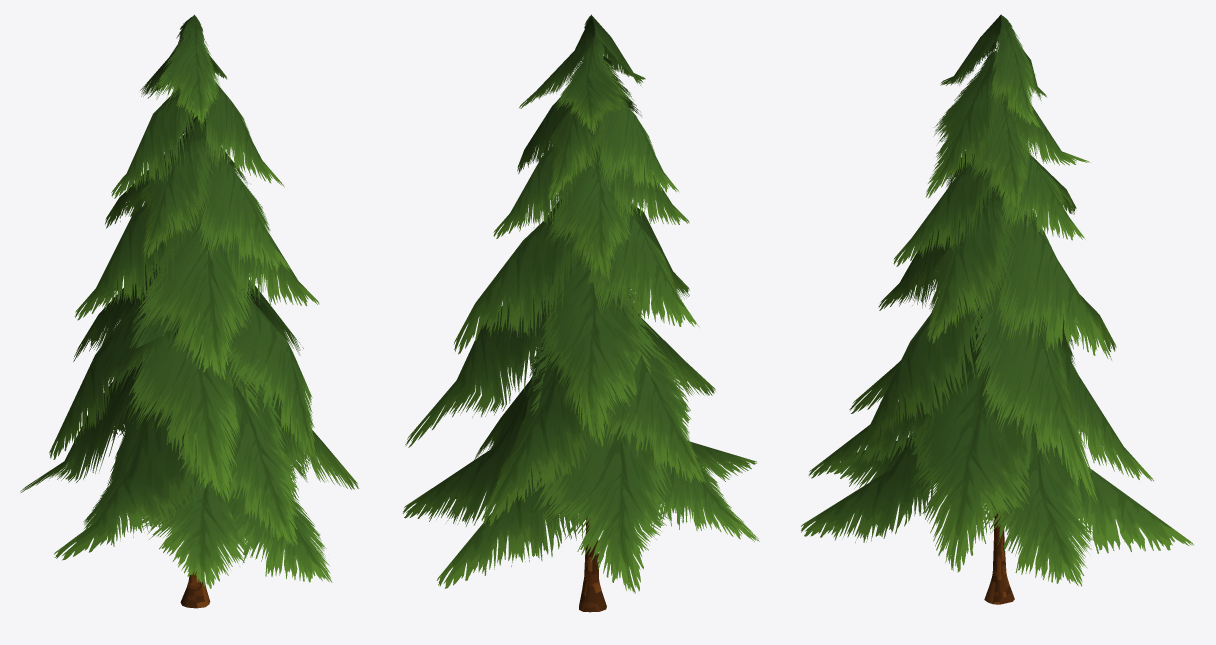
The model's file is Tree2.fbx.
3 views of the same model, side by side, from view 1: azimuth 30°, elevation 25°; view 2: azimuth 150°, elevation 25°; view 3: azimuth 270°, elevation 25° (orthographic).
Visible parts, largest first — view 1: Tree2; view 2: Tree2; view 3: Tree2.
Part boxes in pixels (x1,y1,x2,y2): Tree2: [20, 14, 359, 608]; Tree2: [403, 14, 759, 612]; Tree2: [800, 14, 1193, 604].
Bounding box in the file's own units: 8.53 × 15.15 × 9.57.
Materials: 2 (2 with a texture image).
